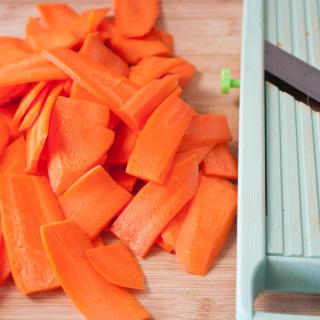Carrot: (0, 0, 238, 319), (40, 217, 151, 320)
